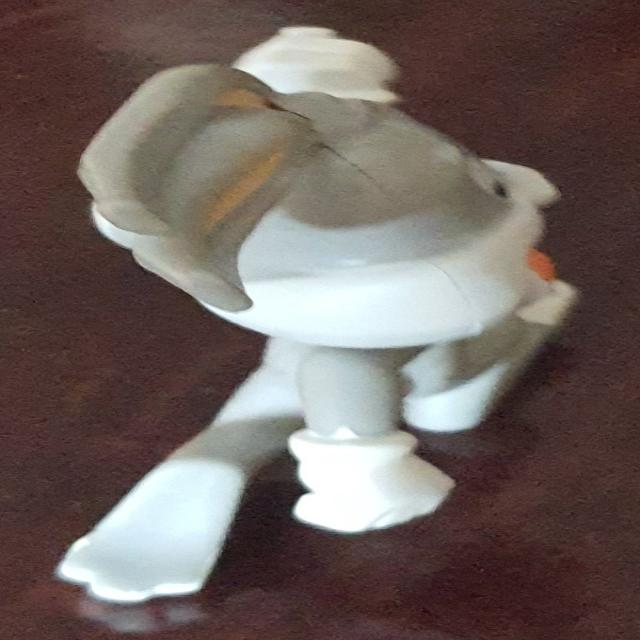Rabbit: (55, 24, 578, 603)
